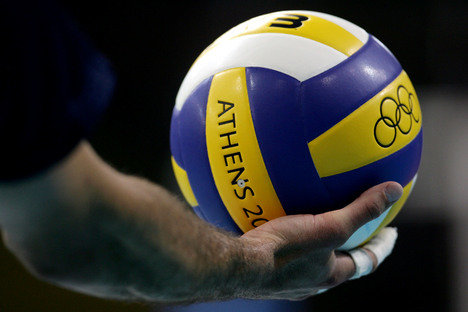volleyball: (167, 9, 426, 246)
